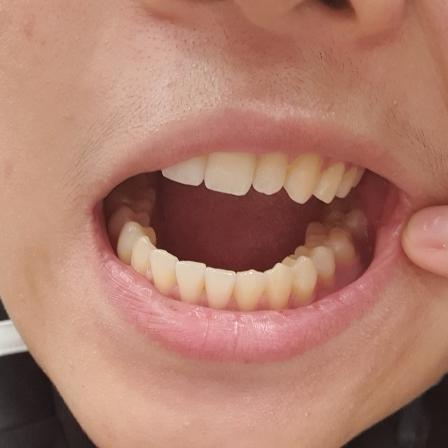Healthy: (203, 144, 288, 195), (296, 222, 350, 286), (205, 264, 267, 311), (151, 248, 203, 299), (288, 155, 341, 203), (265, 261, 318, 304), (118, 220, 154, 272)
